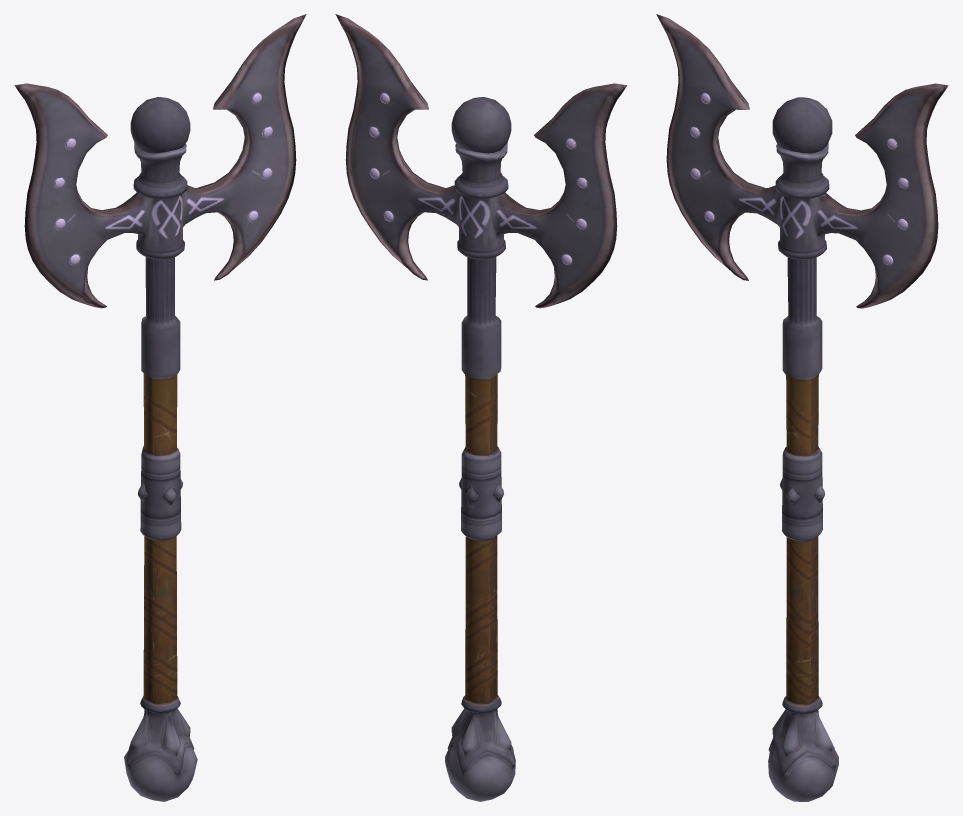
3 renders of one model, left to right at view 1: azimuth 30°, elevation 25°; view 2: azimuth 150°, elevation 25°; view 3: azimuth 330°, elevation 25°, orthographic.
Visible parts, largest first — view 1: SM_Greataxe_Mithril_2H_01_LOD0; view 2: SM_Greataxe_Mithril_2H_01_LOD0; view 3: SM_Greataxe_Mithril_2H_01_LOD0.
Boxes of the visible parts, <box> form: SM_Greataxe_Mithril_2H_01_LOD0: <box>14,14,306,801</box>; SM_Greataxe_Mithril_2H_01_LOD0: <box>335,14,627,801</box>; SM_Greataxe_Mithril_2H_01_LOD0: <box>656,14,948,801</box>.
Size of the model in its own units: 0.6133 by 1.5 by 0.1411.
Materials: 1 (1 with a texture image).
